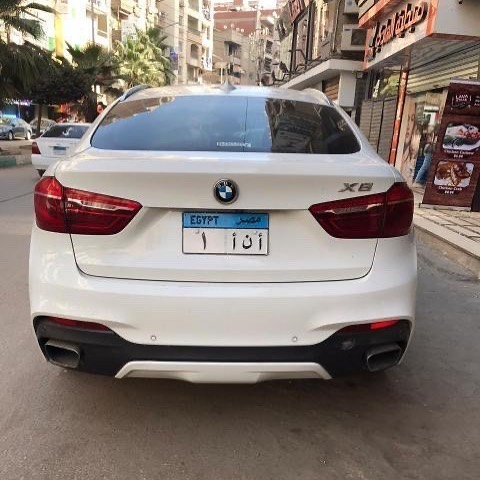carpl: (172, 205, 276, 261)
